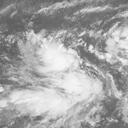cyclone: (37, 43, 95, 103)
